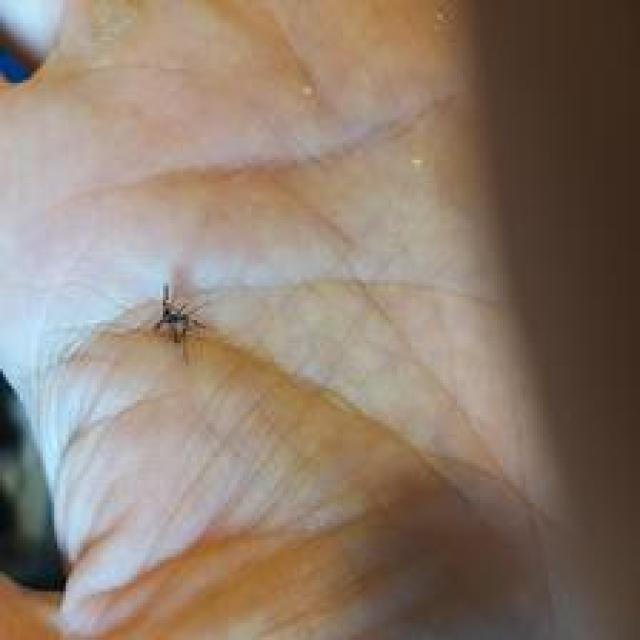Aedes albopictus: (152, 282, 208, 364)
